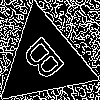B: (19, 34, 73, 91)
